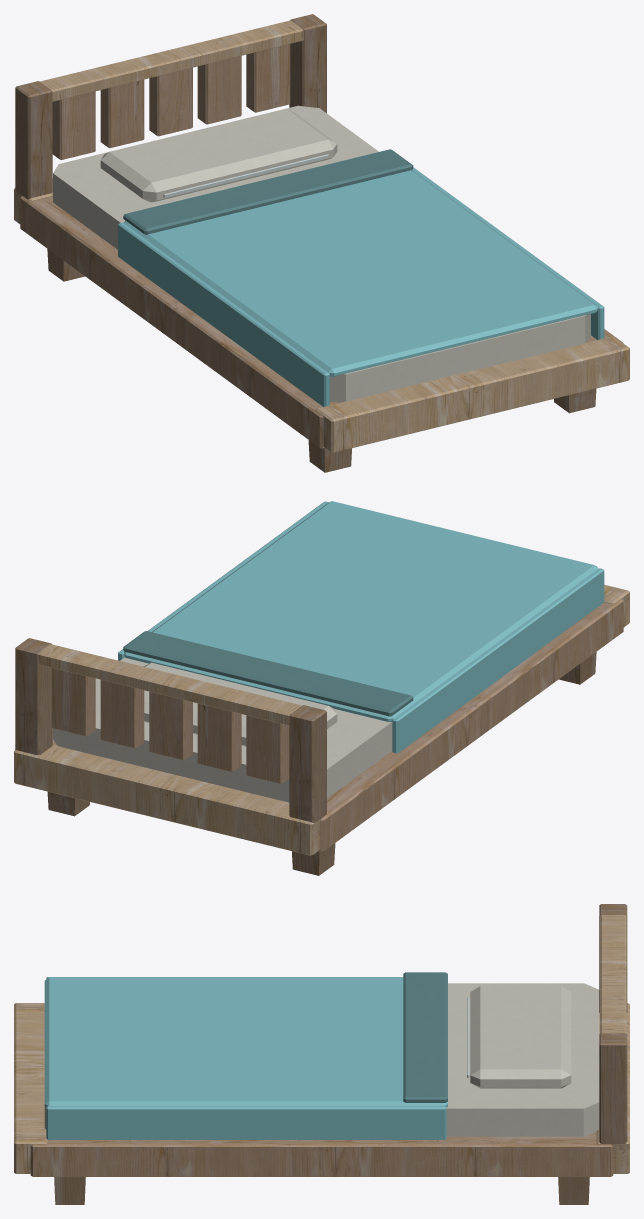
The model's file is build_bed.glb.
3 renders of one model, top to bottom at view 1: azimuth 30°, elevation 25°; view 2: azimuth 150°, elevation 25°; view 3: azimuth 270°, elevation 25°, orthographic. The views are drawn at different scales.
Parts seen in each view (by area): view 1: build_bed; view 2: build_bed; view 3: build_bed.
Part boxes in pixels (bbox=[...]): build_bed: bbox=[14, 14, 629, 472]; build_bed: bbox=[14, 501, 629, 875]; build_bed: bbox=[14, 904, 629, 1204].
Size of the model in its own units: 1.1 by 0.6 by 2.
Materials: 7 (5 with a texture image).
